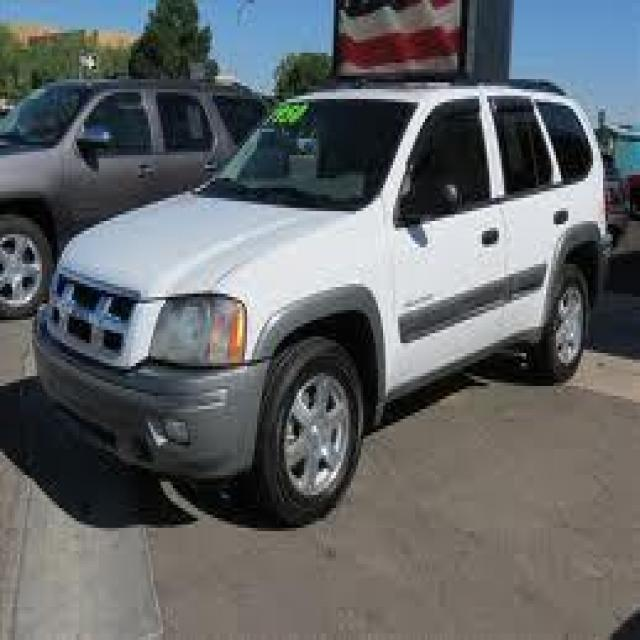Zeep: (19, 65, 627, 540)
